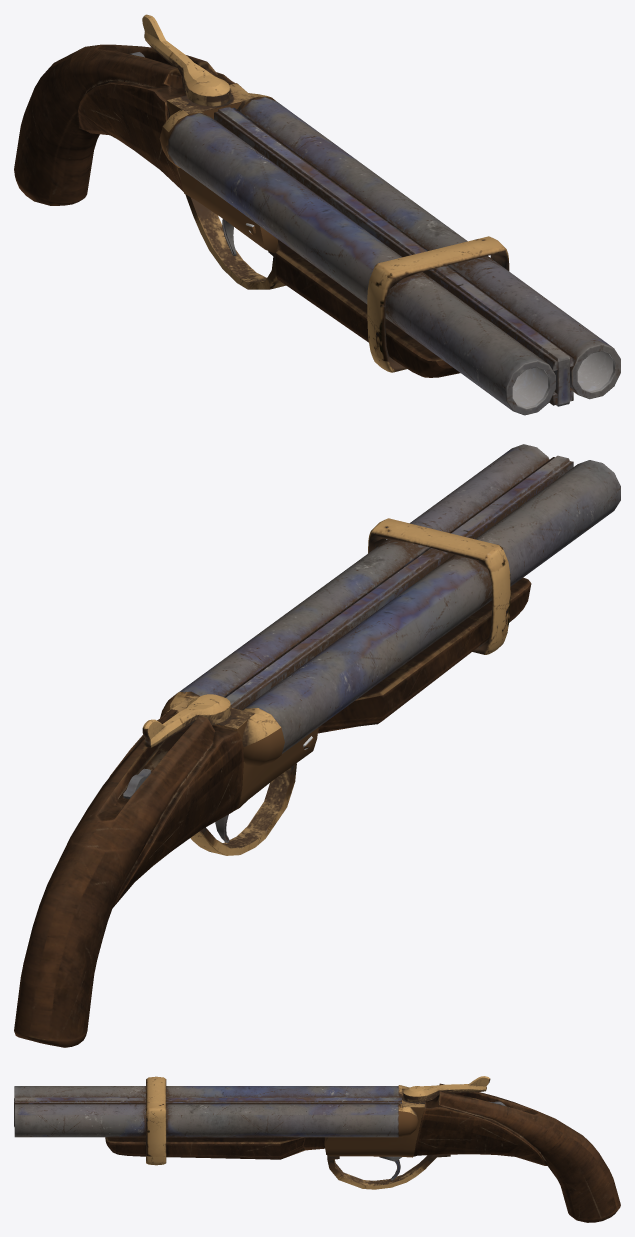
File: Shotgun.fbx
3 views of the same model, one above another, from view 1: azimuth 30°, elevation 25°; view 2: azimuth 150°, elevation 25°; view 3: azimuth 270°, elevation 25° (orthographic). The views are drawn at different scales.
Visible parts, largest first — view 1: DB_Shotgun:SHOTGUNhandle1; view 2: DB_Shotgun:SHOTGUNhandle1; view 3: DB_Shotgun:SHOTGUNhandle1.
Boxes of the visible parts, x1=… form: DB_Shotgun:SHOTGUNhandle1: x1=14, y1=14, x2=620, y2=415; DB_Shotgun:SHOTGUNhandle1: x1=14, y1=444, x2=620, y2=1047; DB_Shotgun:SHOTGUNhandle1: x1=14, y1=1076, x2=620, y2=1222.
Size of the model in its own units: 13.07 by 23.62 by 92.69.
1 material, 1 textured.
